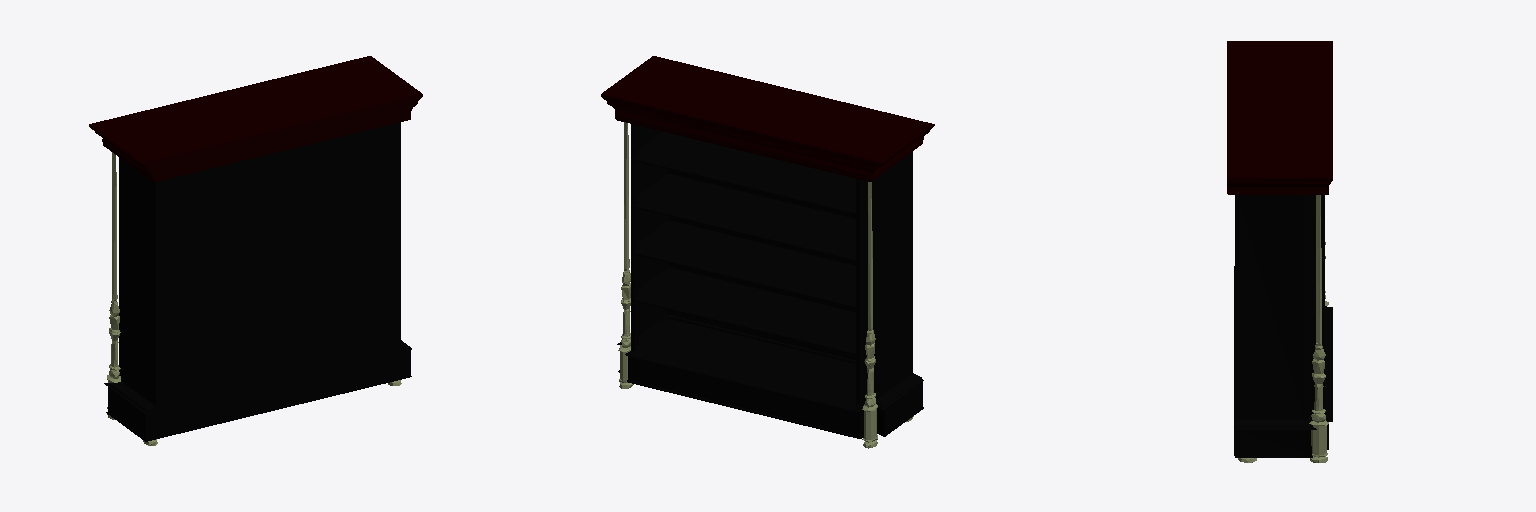
The model's file is Bookcase_Empty.obj.
3 renders of one model, left to right at view 1: azimuth 30°, elevation 25°; view 2: azimuth 150°, elevation 25°; view 3: azimuth 270°, elevation 25°, orthographic.
Visible parts, largest first — view 1: Frame_Plane.017; view 2: Frame_Plane.017; view 3: Frame_Plane.017.
Boxes of the visible parts, <box> form: Frame_Plane.017: <box>89,56,422,445</box>; Frame_Plane.017: <box>601,56,934,448</box>; Frame_Plane.017: <box>1227,41,1332,462</box>.
Size of the model in its own units: 2.61 by 2.6 by 0.8476.